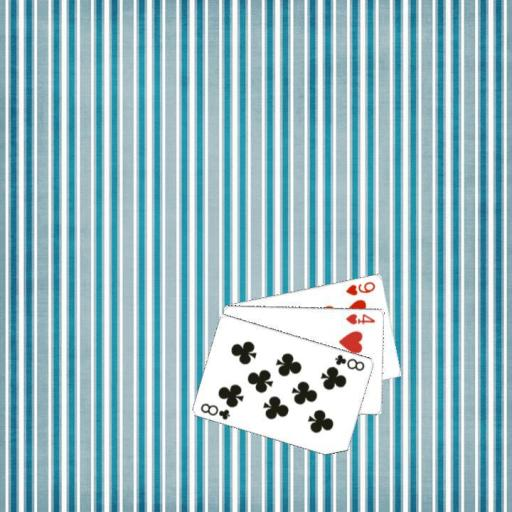4H: (343, 310, 376, 326)
8C: (332, 351, 366, 373), (198, 400, 232, 421)
9H: (343, 278, 377, 297)
